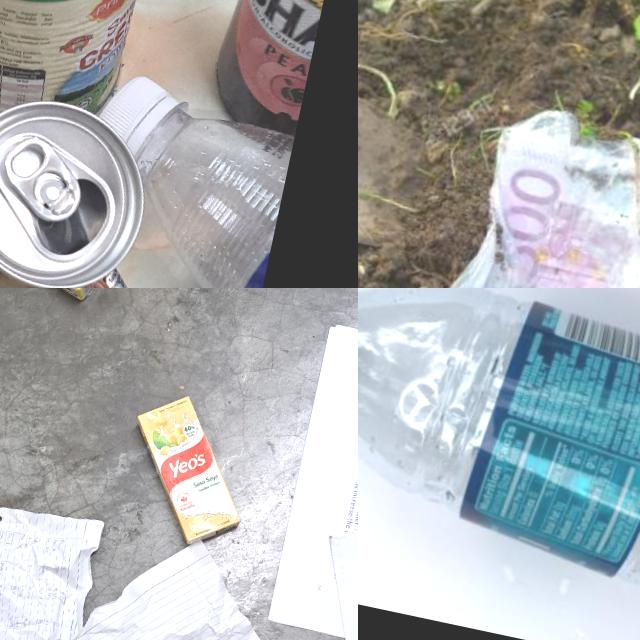aba de lata: (0, 126, 92, 224)
caixinha: (109, 387, 262, 551)
garrafa de vidro: (204, 0, 358, 139)
garrafa plástica: (358, 288, 640, 635), (110, 104, 295, 288)
lata: (0, 82, 204, 288), (0, 0, 182, 156)
papel: (1, 508, 358, 640), (241, 318, 358, 640), (0, 485, 106, 640)
sacola plástica: (385, 87, 640, 288)
tampa plástica: (95, 69, 170, 155)
